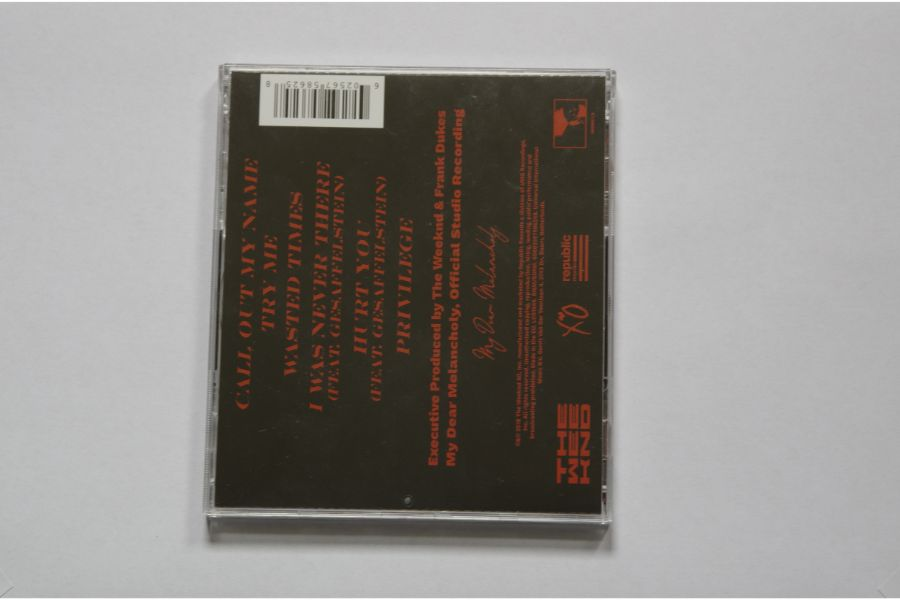album: (203, 60, 621, 531)
